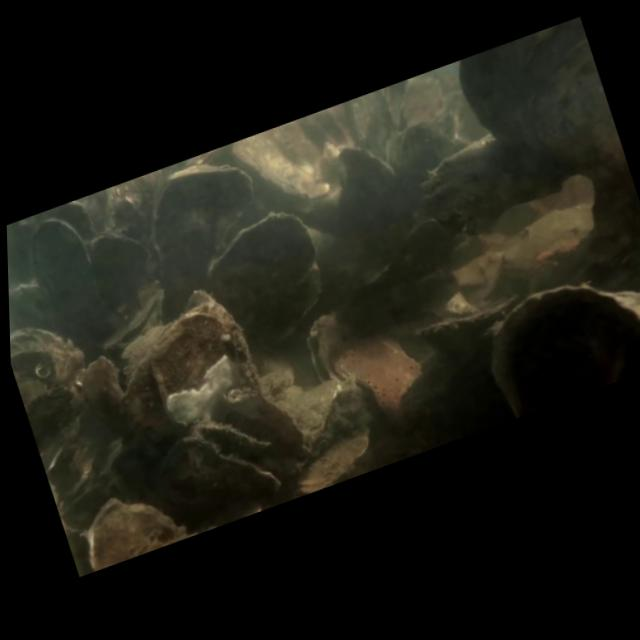Oyster-Closed: (202, 209, 316, 329), (229, 135, 333, 201)
Oyster-Indeterminate: (147, 285, 306, 462), (488, 283, 640, 416), (10, 327, 105, 530), (148, 161, 261, 306), (25, 216, 113, 341), (87, 496, 194, 571), (335, 142, 411, 232), (88, 230, 153, 303), (344, 99, 372, 144)
Oyster-Open: (305, 308, 427, 432), (184, 417, 289, 496), (102, 291, 165, 353)
